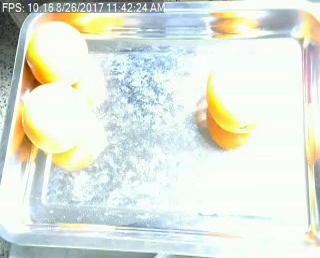Orange: (207, 70, 260, 132)
